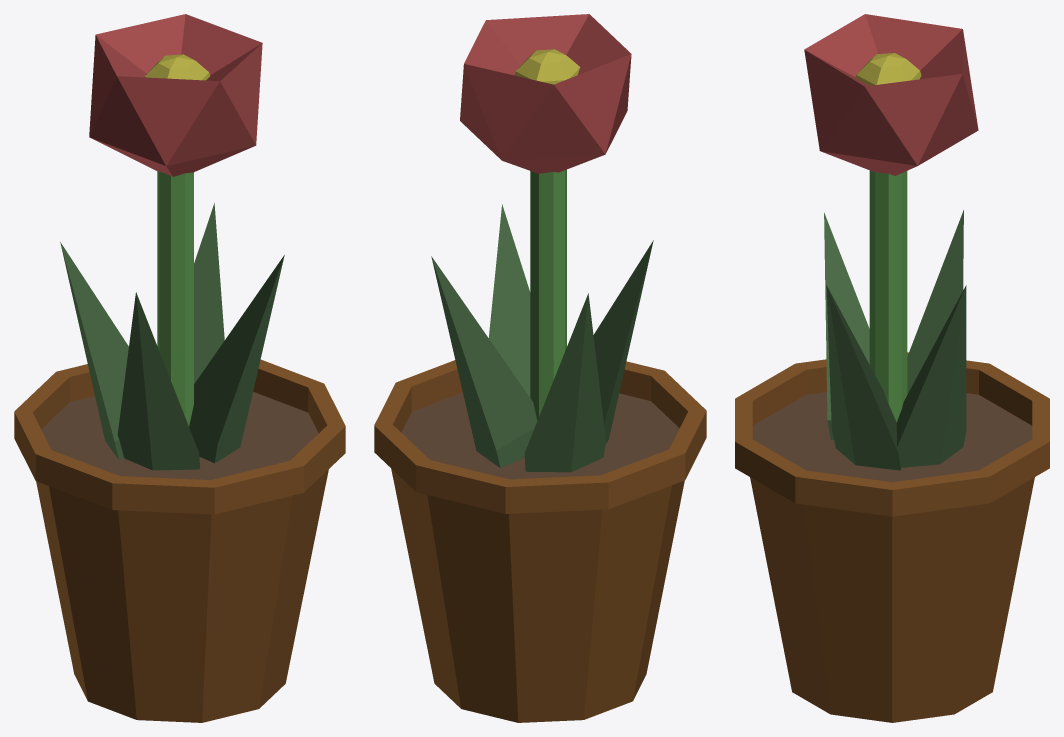
File: SM_FlowerPot_Rose.fbx
3 views of the same model, side by side, from view 1: azimuth 30°, elevation 25°; view 2: azimuth 150°, elevation 25°; view 3: azimuth 270°, elevation 25° (orthographic).
Parts seen in each view (by area): view 1: pCylinder1; view 2: pCylinder1; view 3: pCylinder1.
Boxes of the visible parts, bbox=[...] form: pCylinder1: bbox=[14, 14, 345, 722]; pCylinder1: bbox=[374, 14, 706, 722]; pCylinder1: bbox=[735, 14, 1049, 722].
Bounding box in the file's own units: 3.38 × 7.06 × 3.21.
